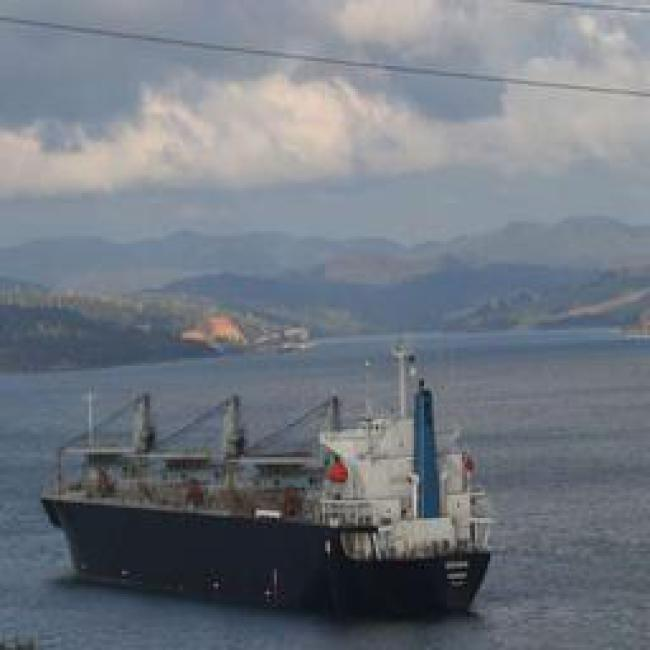Ship: (50, 420, 495, 618)
